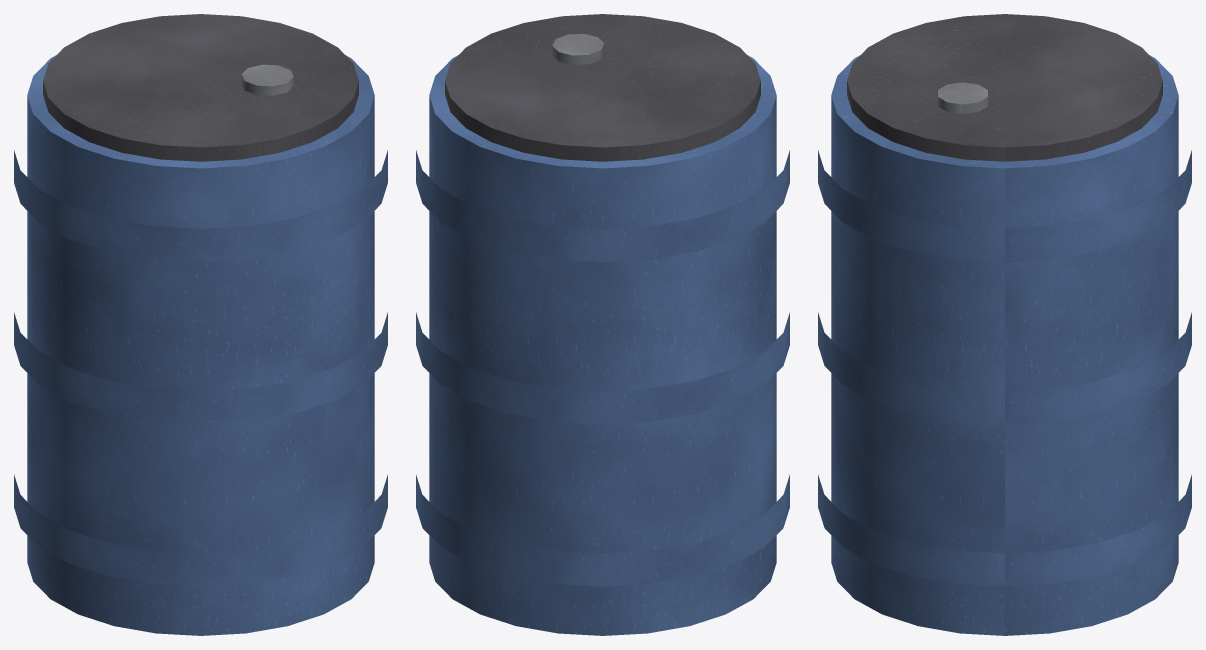
The model's file is barrel.glb.
The picture shows the model from 3 angles, left to right: view 1: azimuth 30°, elevation 25°; view 2: azimuth 150°, elevation 25°; view 3: azimuth 270°, elevation 25°; orthographic projection.
Visible parts, largest first — view 1: barrel; view 2: barrel; view 3: barrel.
Part boxes in pixels (bbox=[...]): barrel: bbox=[14, 14, 387, 635]; barrel: bbox=[416, 14, 789, 635]; barrel: bbox=[818, 14, 1191, 635].
Size of the model in its own units: 0.71 by 1.03 by 0.71.
Materials: 3 (3 with a texture image).
